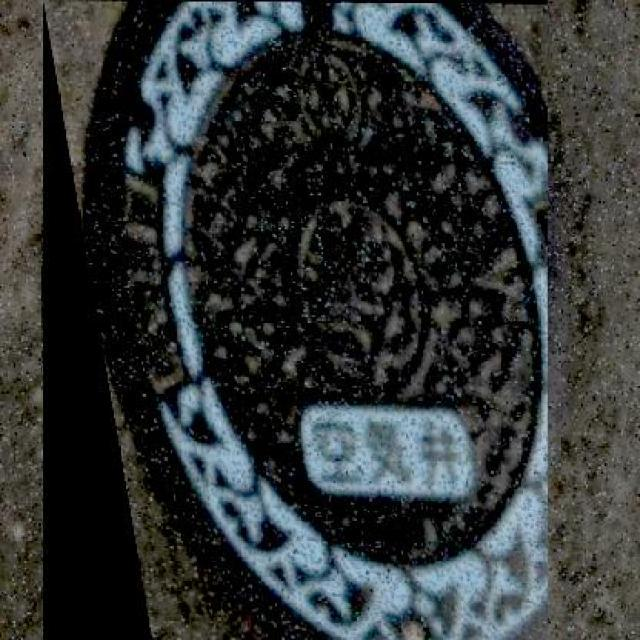Manhole: (43, 0, 548, 640)
